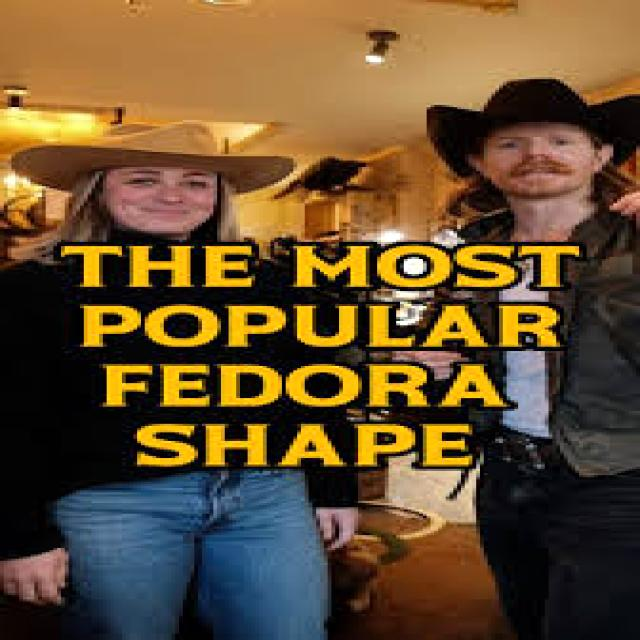hat: (427, 80, 639, 177), (12, 120, 293, 192)
